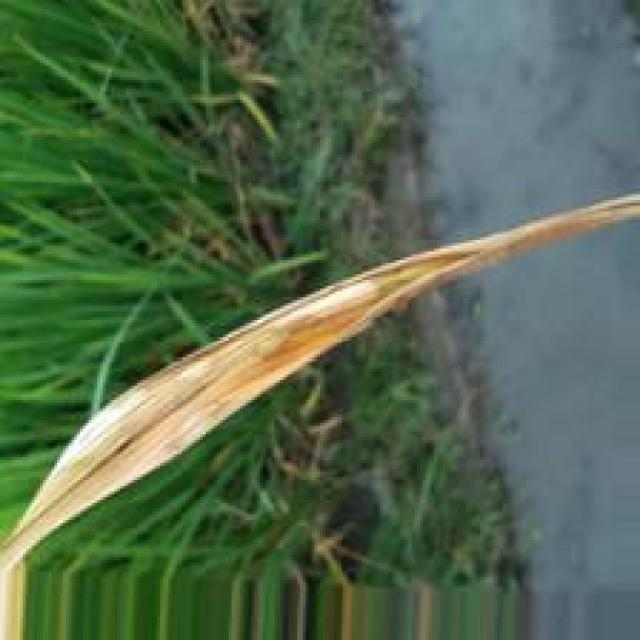Leaf_Scald: (20, 232, 514, 549)
